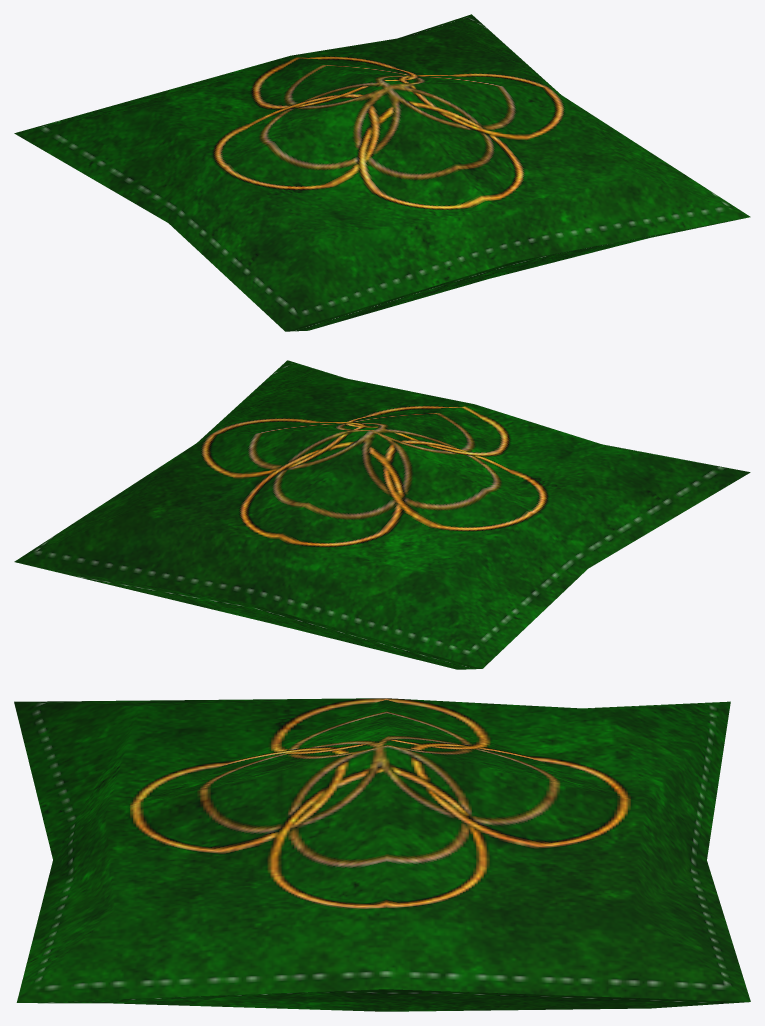
Rendered from M_Home_Garden_Pillow02.fbx.
The picture shows the model from 3 angles, top to bottom: view 1: azimuth 30°, elevation 25°; view 2: azimuth 150°, elevation 25°; view 3: azimuth 270°, elevation 25°; orthographic projection. The views are drawn at different scales.
Parts seen in each view (by area): view 1: M_Home_Garden_Pillow02; view 2: M_Home_Garden_Pillow02; view 3: M_Home_Garden_Pillow02.
Boxes of the visible parts, bbox=[...] form: M_Home_Garden_Pillow02: bbox=[14, 14, 750, 331]; M_Home_Garden_Pillow02: bbox=[14, 360, 750, 669]; M_Home_Garden_Pillow02: bbox=[14, 698, 750, 1011].
Bounding box in the file's own units: 59.71 × 17.87 × 61.71.
